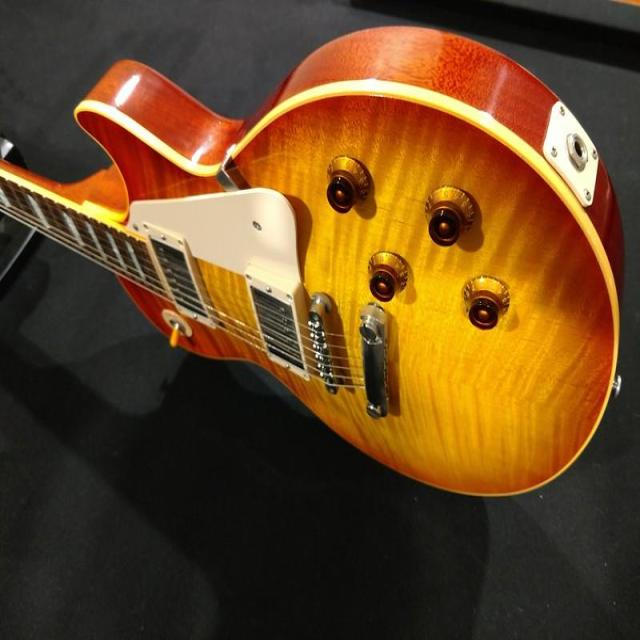guitar: (0, 28, 622, 494)
